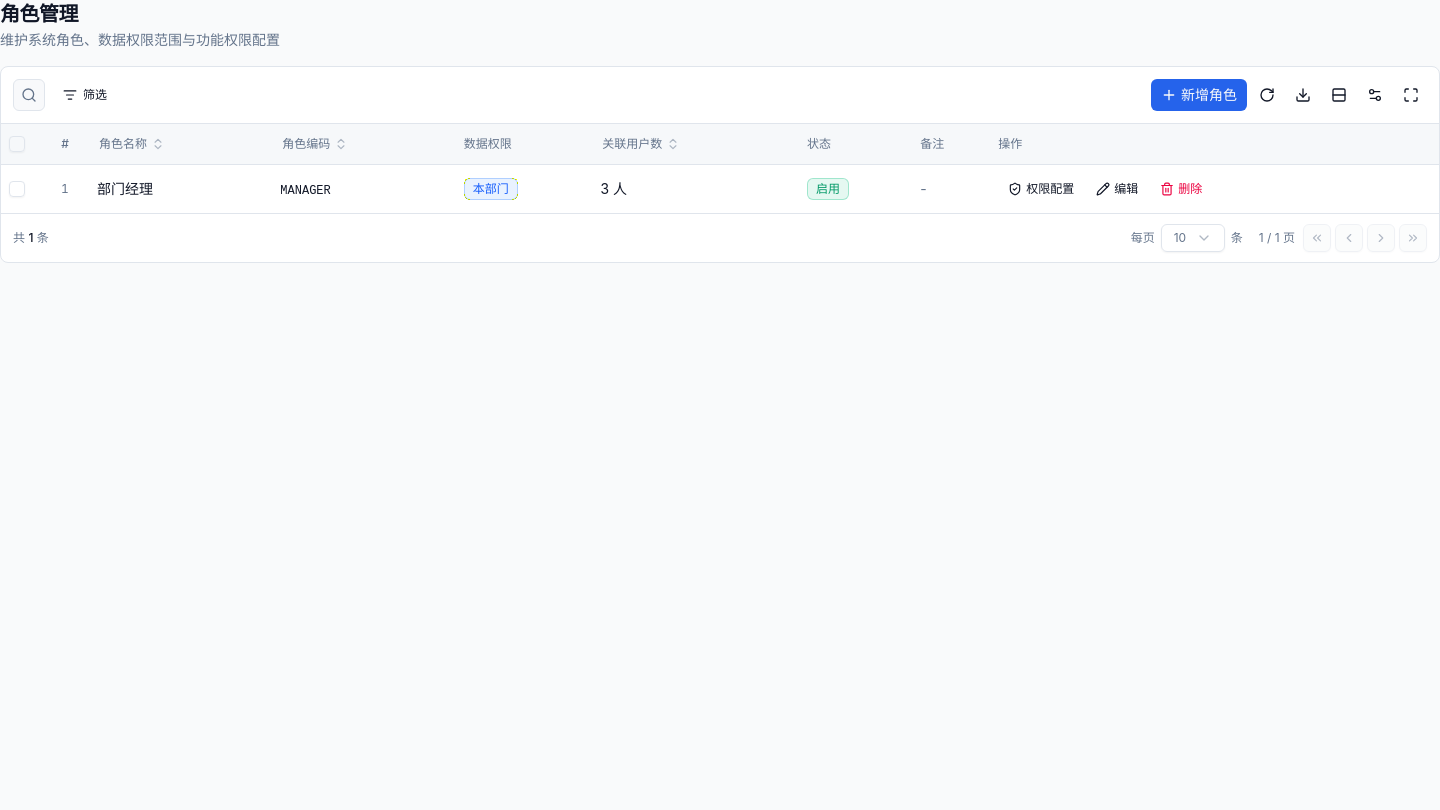
角色详情 Sheet（四 Tab） › 新增角色 → 功能权限/字段权限 Tab 禁用（保存后可配）
This screenshot has width=1440, height=810.
Click the button "新增角色".
click(1199, 95)  # box [1151,79,1247,111]
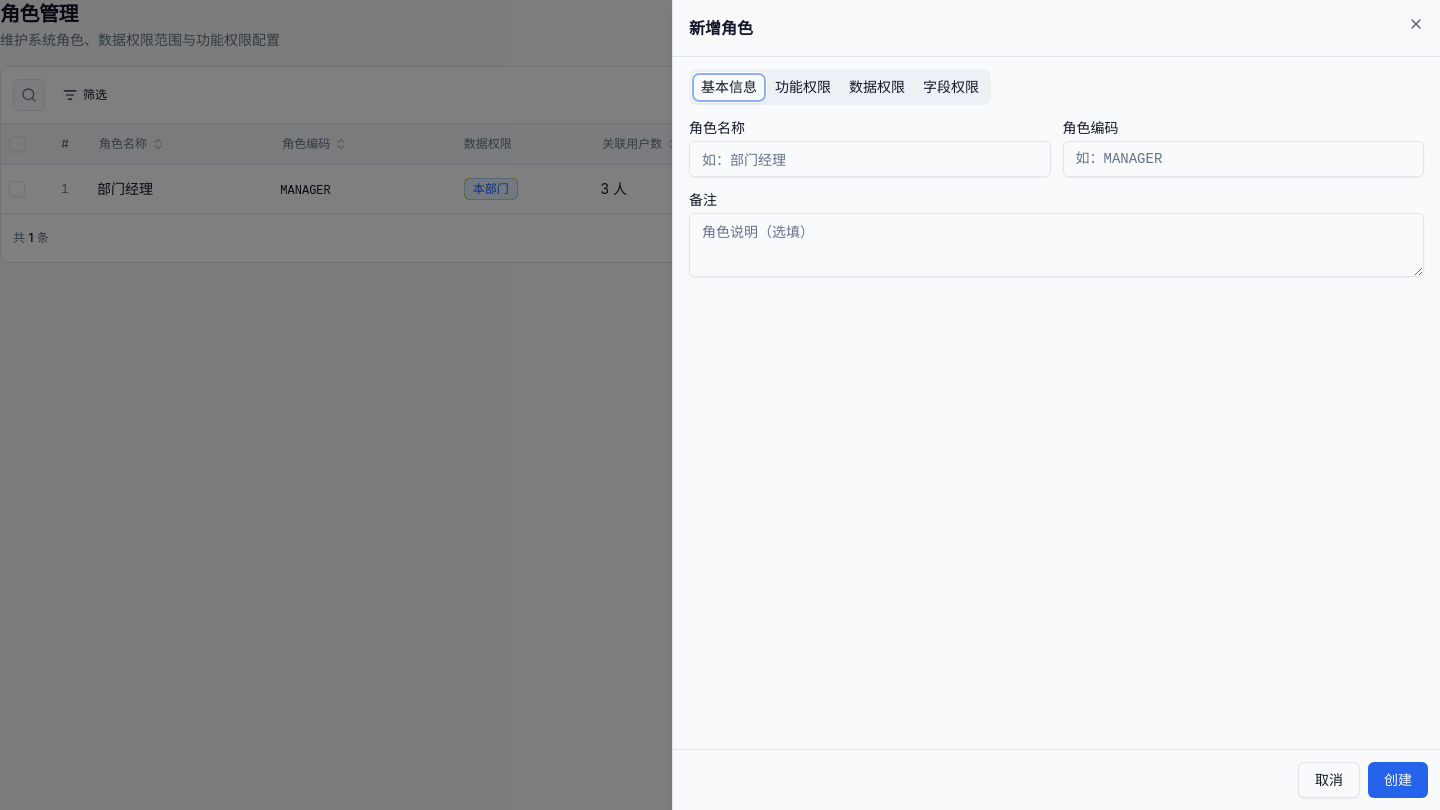
Result: the tab "基本信息" is shown at [692,72,766,102]
Result: the tab "功能权限" is disabled at [766,72,840,102]
Result: the tab "字段权限" is disabled at [914,72,988,102]
